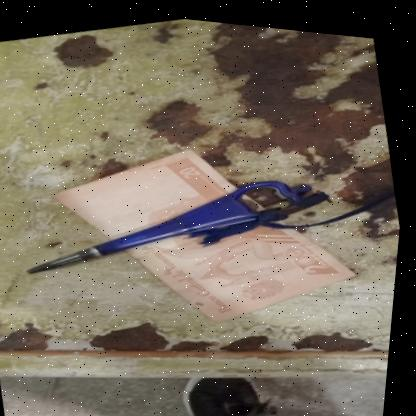twenty-back-vef: (39, 99, 379, 363)
